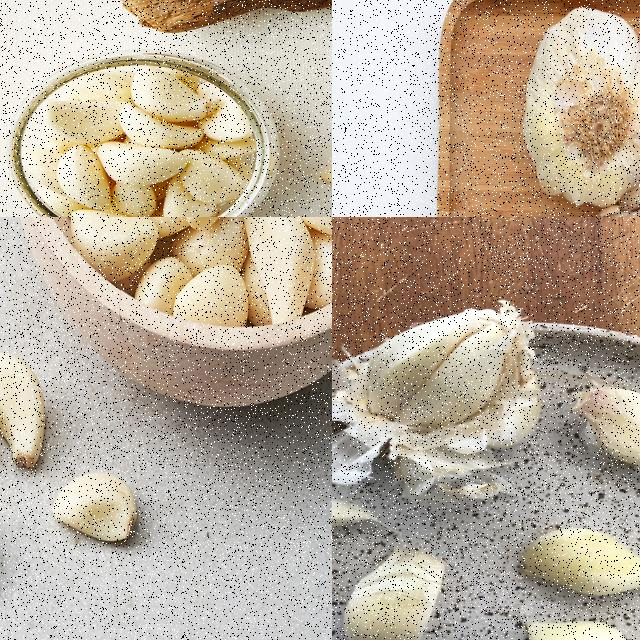garlic: (28, 70, 262, 216), (43, 217, 331, 331), (352, 306, 541, 454), (520, 4, 639, 213), (343, 550, 452, 639), (519, 527, 639, 596), (50, 471, 140, 544), (568, 383, 639, 475), (0, 348, 48, 471), (332, 496, 390, 556), (526, 618, 628, 639)
